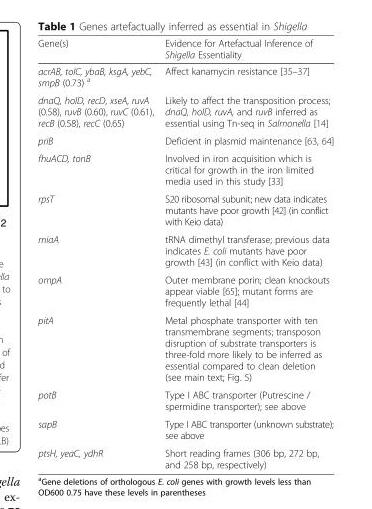table: (37, 37, 333, 469)
table column: (158, 37, 333, 469), (37, 37, 158, 469)
table column header: (37, 37, 333, 62)
table row: (37, 311, 333, 385), (37, 189, 333, 230), (37, 270, 333, 311), (37, 91, 333, 131), (37, 149, 333, 189), (37, 230, 333, 270), (37, 62, 333, 91), (37, 385, 333, 414), (37, 414, 333, 443), (37, 443, 333, 469), (37, 37, 333, 62), (37, 131, 333, 149)
